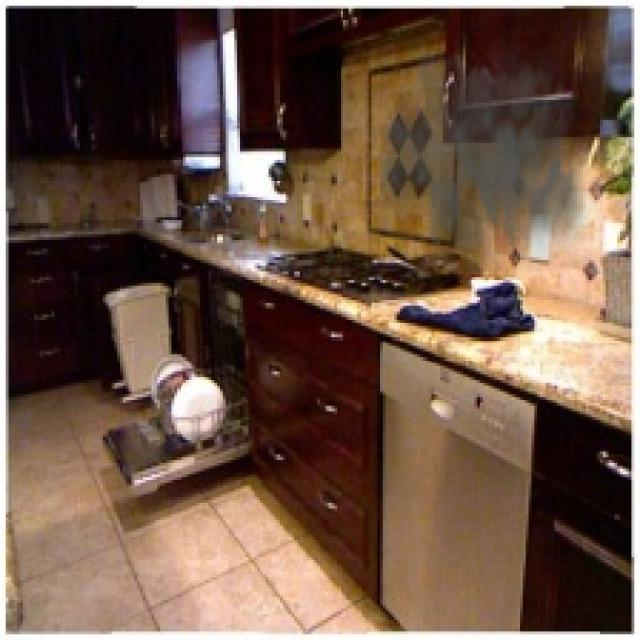Smoke: (380, 20, 597, 272)
